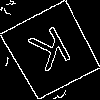K: (26, 25, 79, 81)
